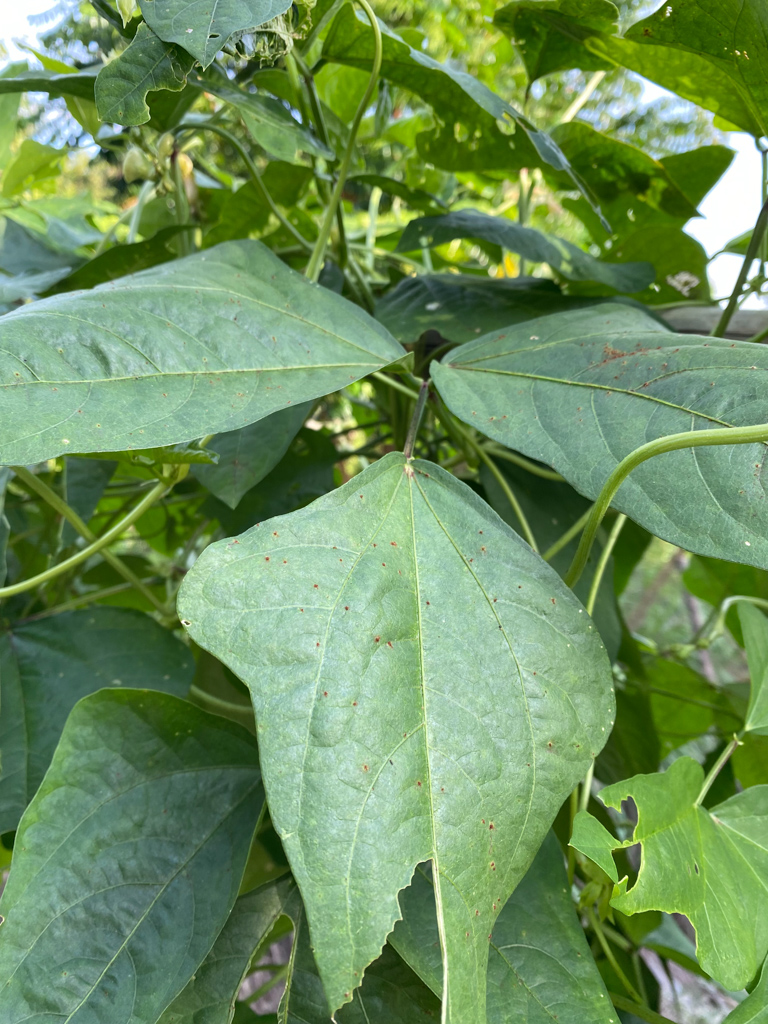Alternaria brassicicola: (256, 526, 573, 930)
Rust: (565, 331, 699, 392)
